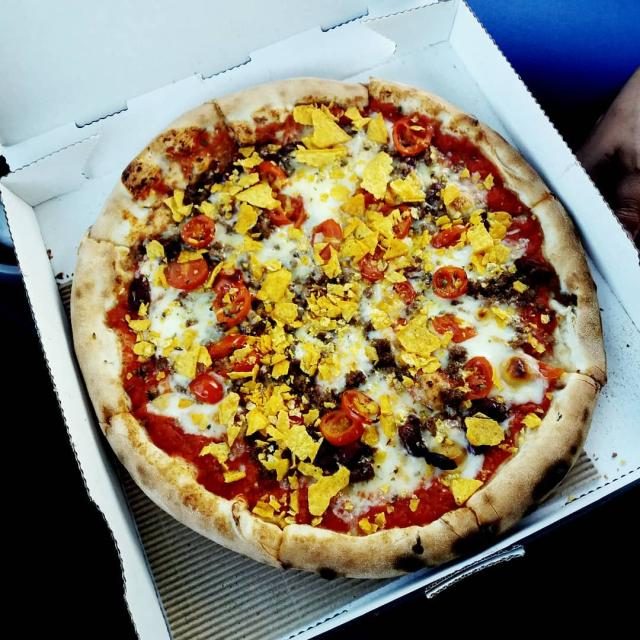pizza: (69, 74, 609, 582)
tomatoes: (392, 116, 433, 156), (319, 410, 364, 446), (213, 285, 251, 327), (460, 355, 495, 400), (164, 256, 208, 290), (429, 314, 478, 343), (340, 390, 380, 425), (311, 218, 343, 259), (268, 196, 308, 228), (378, 204, 412, 239), (433, 265, 469, 298), (180, 215, 215, 248), (248, 162, 287, 189), (189, 374, 224, 404), (207, 334, 249, 358), (430, 224, 468, 248), (354, 254, 388, 280), (214, 267, 243, 292), (233, 347, 260, 371), (392, 281, 415, 305)
